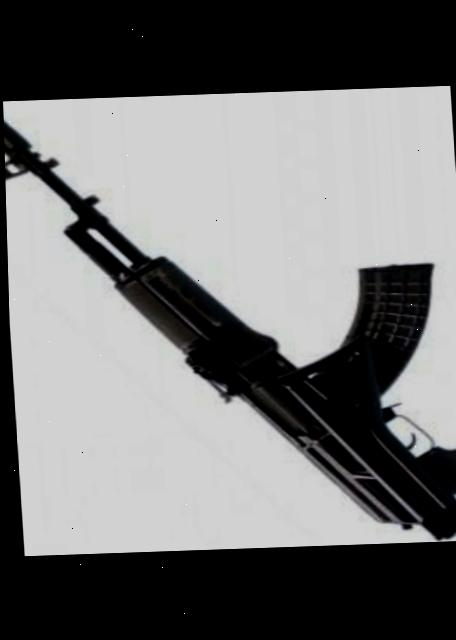rifle: (2, 85, 456, 548)
